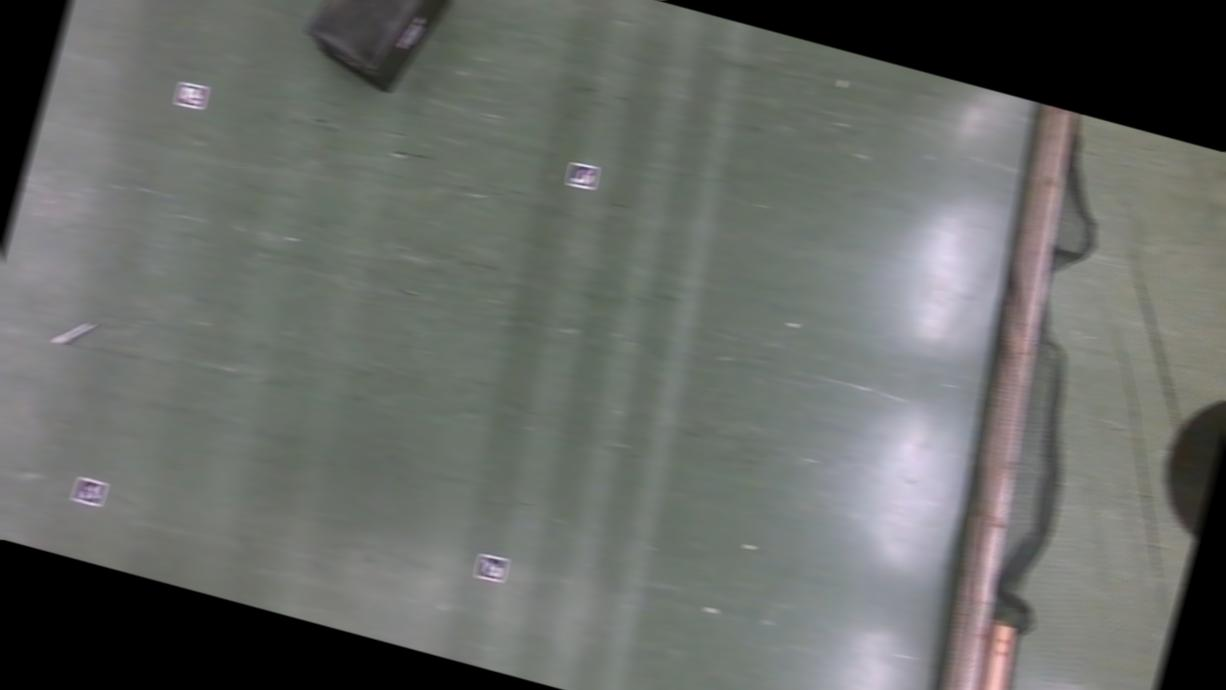probes: (51, 312, 97, 351)
rako: (292, 0, 463, 103)
